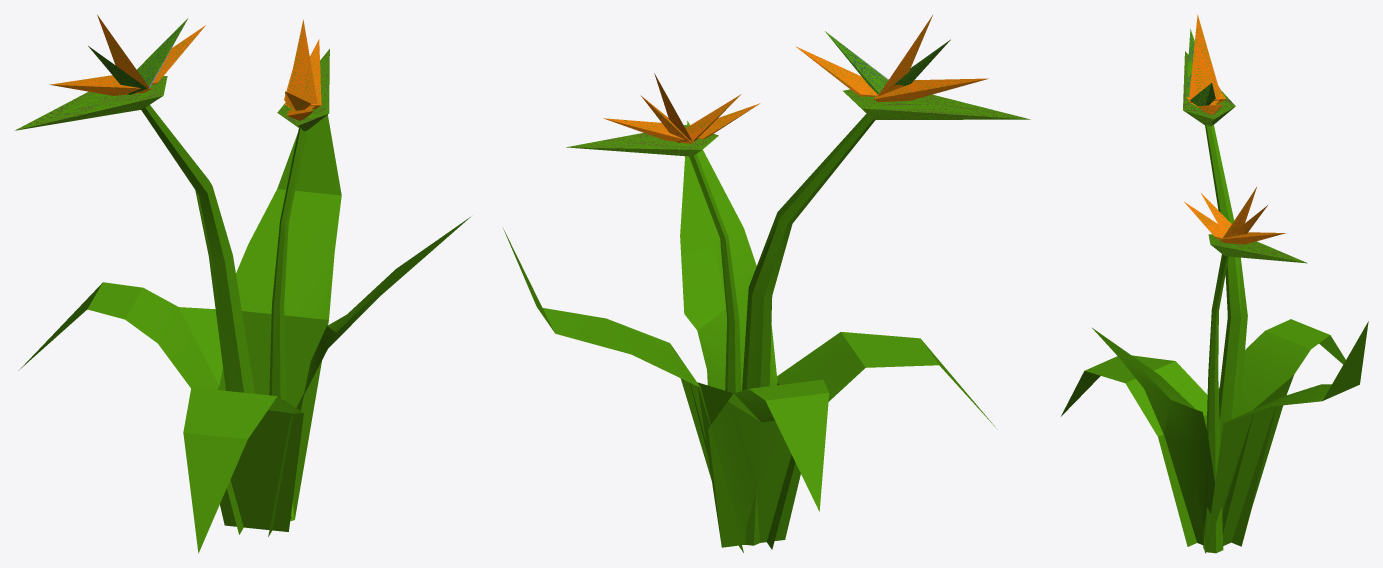
The model's file is Plant_Bird_of_Paradise_02.fbx.
3 views of the same model, side by side, from view 1: azimuth 30°, elevation 25°; view 2: azimuth 150°, elevation 25°; view 3: azimuth 270°, elevation 25° (orthographic). The views are drawn at different scales.
Parts seen in each view (by area): view 1: Model; view 2: Model; view 3: Model.
Part boxes in pixels (x1,y1,x2,y2): Model: (15,14,470,553); Model: (503,15,1030,552); Model: (1061,15,1368,553).
Size of the model in its own units: 340 by 435 by 265.
